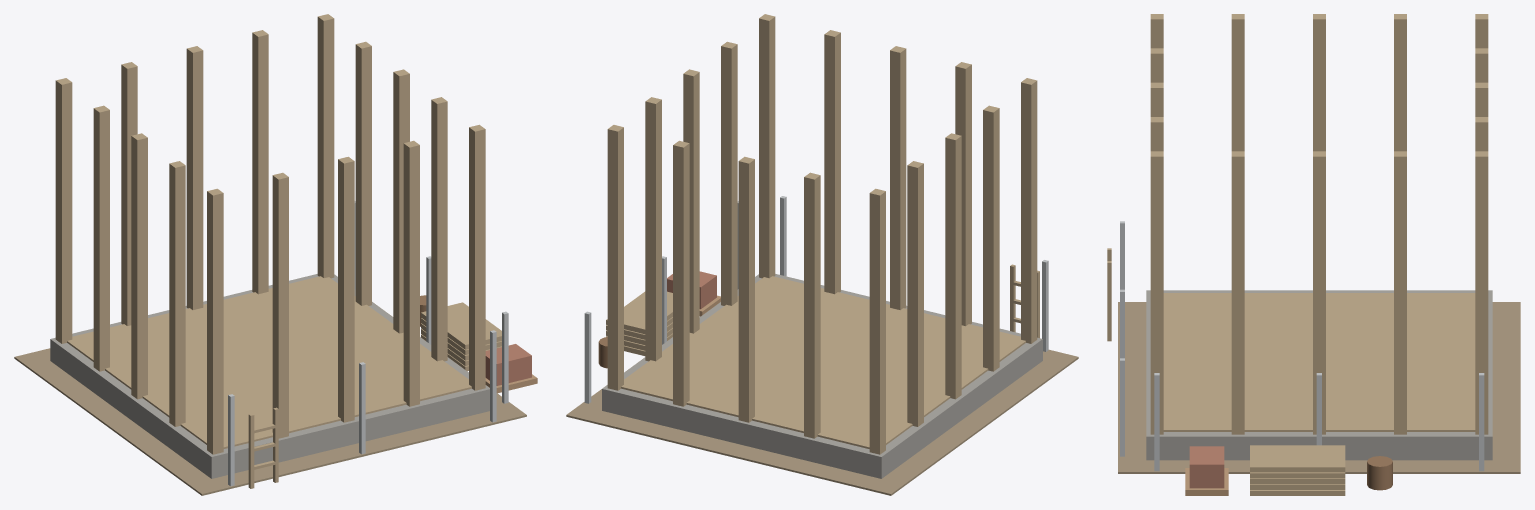
The model's file is feed_mill_site_3.glb.
3 renders of one model, left to right at view 1: azimuth 30°, elevation 25°; view 2: azimuth 150°, elevation 25°; view 3: azimuth 270°, elevation 25°, orthographic. The views are drawn at different scales.
Visible parts, largest first — view 1: body; view 2: body; view 3: body.
Boxes of the visible parts, x1,y1,x2,y2 form: body: [14, 14, 537, 495]; body: [566, 14, 1078, 495]; body: [1107, 14, 1520, 495].
Bounding box in the file's own units: 2.1 × 1.55 × 1.91.
